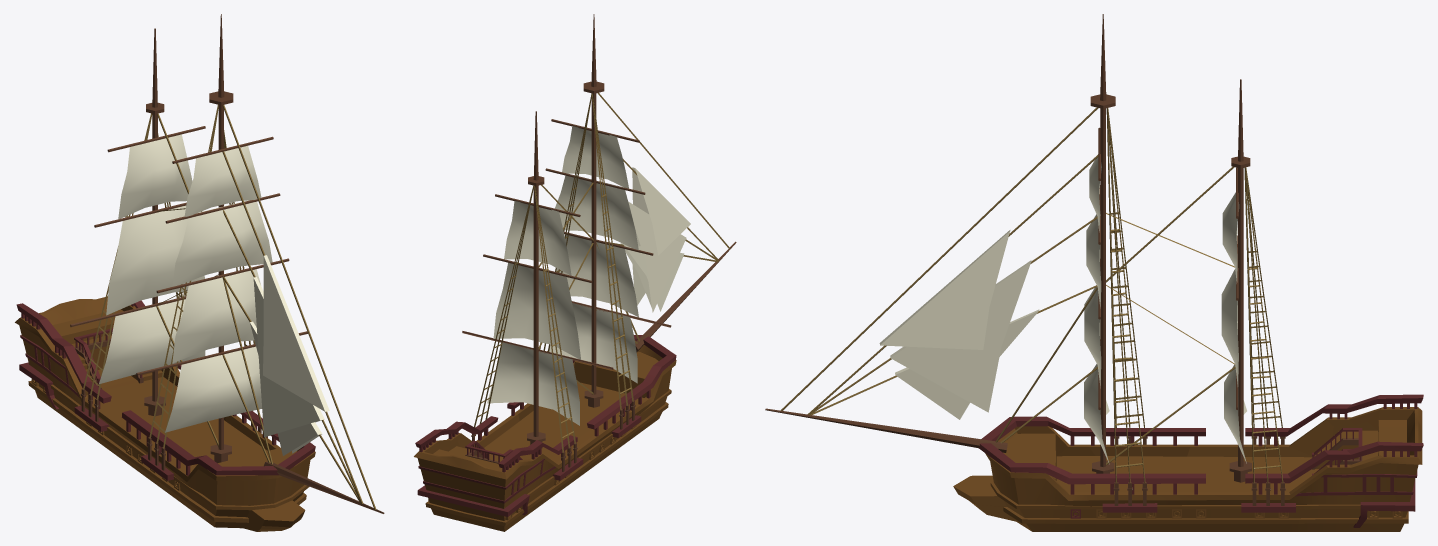
File: ship.fbx
3 renders of one model, left to right at view 1: azimuth 30°, elevation 25°; view 2: azimuth 150°, elevation 25°; view 3: azimuth 270°, elevation 25°, orthographic. The views are drawn at different scales.
Visible parts, largest first — view 1: pPlane7, pPlane11, pPlane13, pPlane16, pPlane15, pCylinder33, pPlane9, pPlane12, pasted__pCube2, pPlane14, pCylinder32, pCylinder19 (+10 smaller); view 2: pPlane7, pPlane11, pPlane9, pPlane15, pPlane16, pPlane13, pasted__pCube2, pPlane12, pCylinder54, pCylinder32, pCylinder53, pCylinder19 (+9 smaller); view 3: pPlane7, pasted__pCube2, pCylinder33, pCylinder32, pCylinder53, pCylinder54, pCylinder19, pCylinder1, pCylinder31, pCylinder14, pPlane11, pCylinder29 (+6 smaller).
Boxes of the visible parts, box(x1,y1,x2,y2) form: pPlane7: box(15, 297, 315, 531); pPlane11: box(106, 205, 204, 315); pPlane13: box(165, 346, 262, 432); pPlane16: box(172, 200, 272, 286); pPlane15: box(172, 269, 260, 363); pCylinder33: box(263, 255, 329, 411); pPlane9: box(99, 299, 205, 384); pPlane12: box(118, 134, 192, 219); pasted__pCube2: box(16, 300, 315, 475); pPlane14: box(184, 145, 261, 216); pCylinder32: box(253, 277, 324, 437); pCylinder19: box(209, 14, 233, 463); pPlane7: box(414, 345, 676, 531); pPlane11: box(493, 262, 580, 359); pPlane9: box(487, 342, 579, 425); pPlane15: box(556, 234, 638, 317); pPlane16: box(555, 173, 638, 250); pPlane13: box(548, 303, 637, 383); pasted__pCube2: box(415, 335, 676, 468); pPlane12: box(504, 201, 571, 275); pCylinder54: box(474, 185, 575, 452); pCylinder32: box(628, 201, 686, 312); pCylinder53: box(539, 93, 633, 409); pCylinder19: box(583, 14, 604, 407); pPlane7: box(953, 407, 1422, 531); pasted__pCube2: box(979, 394, 1423, 484); pCylinder33: box(879, 230, 1010, 349); pCylinder32: box(890, 260, 1031, 412); pCylinder53: box(1106, 108, 1145, 482); pCylinder54: box(1244, 167, 1283, 482); pCylinder19: box(1090, 14, 1115, 473); pCylinder1: box(1229, 79, 1251, 482); pCylinder31: box(895, 309, 1039, 419); pCylinder14: box(765, 408, 1007, 452); pPlane11: box(1221, 269, 1238, 386); pCylinder29: box(780, 107, 1098, 410).
Size of the model in its own units: 19.4 by 51.56 by 61.85.
1 material, 1 textured.
